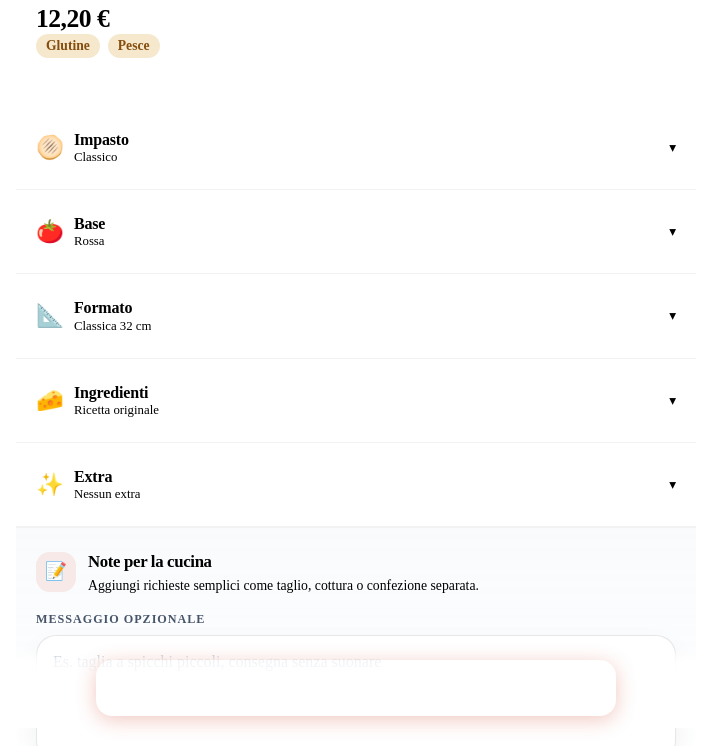
it: product detail screen › renders the topping for the requested product
(page scrolled)
What coordinates should you click on to do the following:
click the button "🧀 Ingredienti Ricetta originale ▾"
I would click on:
 (111, 392)
Its box is [16,359,696,442].
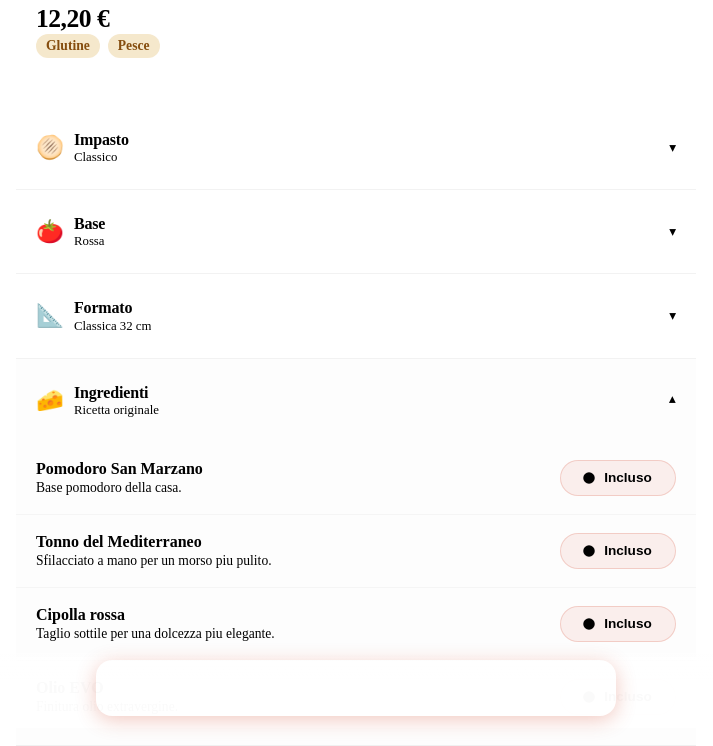
Check: the text "Sfilacciato a mano per un morso piu pulito." is shown, box [36,553,272,568]
Check: the text "Taglio sottile per una dolcezza piu elegante." is shown, box [36,626,275,641]
